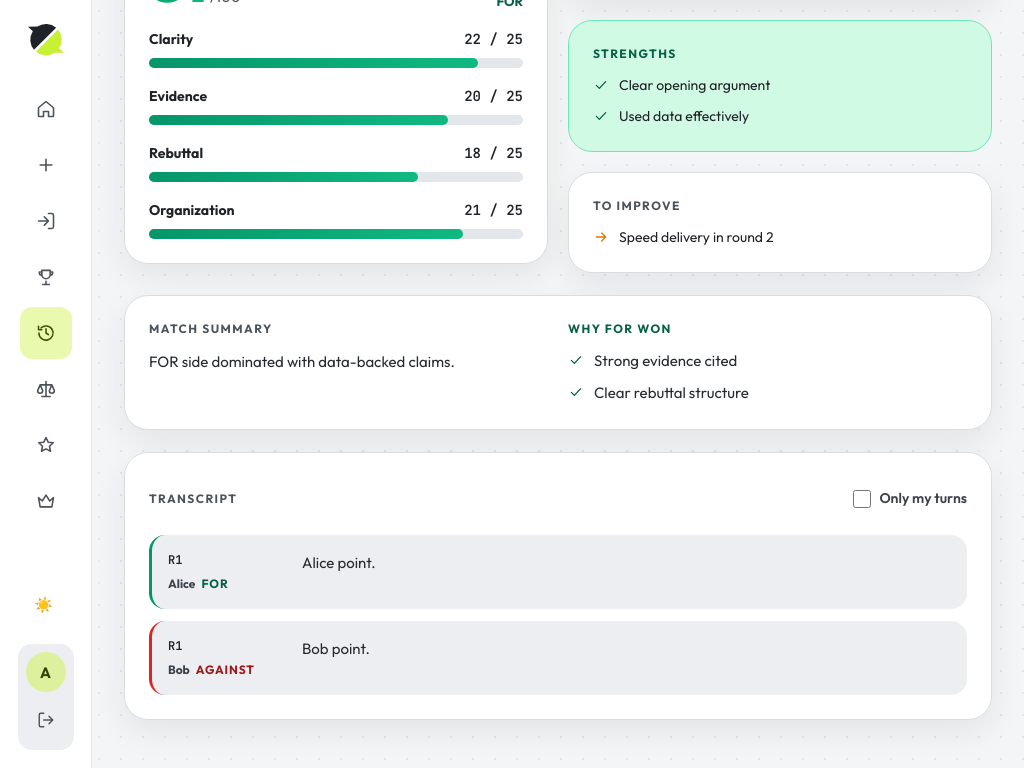
Test: DebateAnalysisPage › Transcript › 'Only my turns' filters the transcript to the selected debater
(page scrolled)
Expected: the text "Bob point." is shown, [302,639,370,658]
Click the checkbox labelled "Only my turns" at (862, 499), box [853,490,871,508]
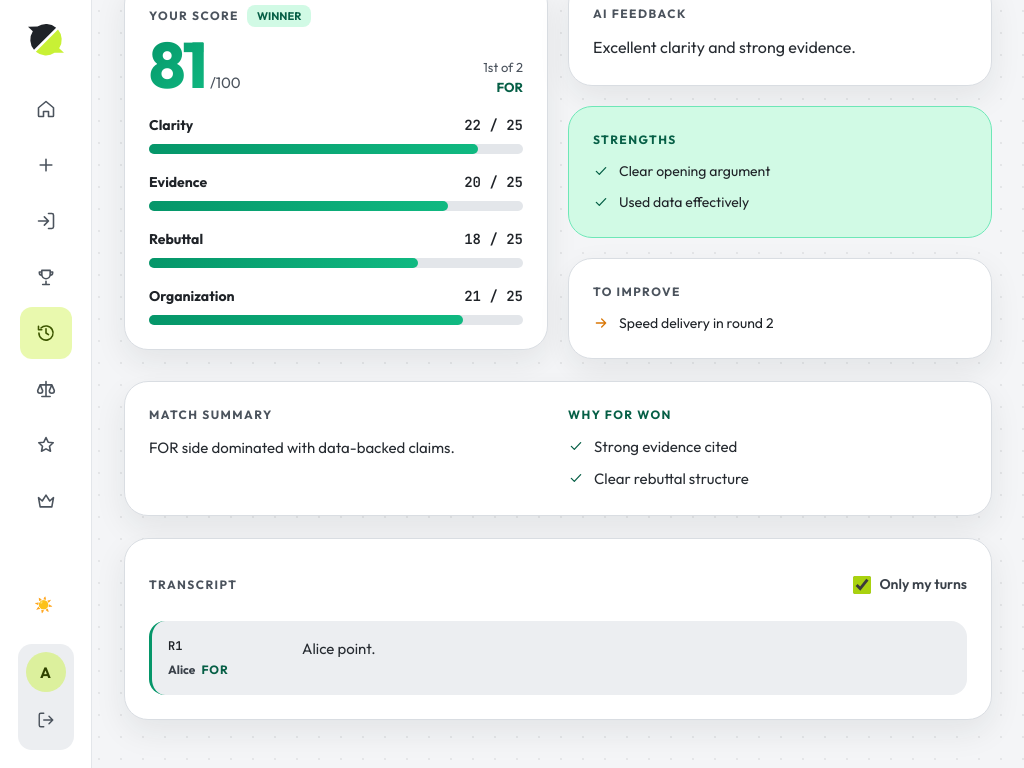
Expected: the text "Alice point." is shown, [302,639,376,658]
Expected: the text "Bob point." is gone
